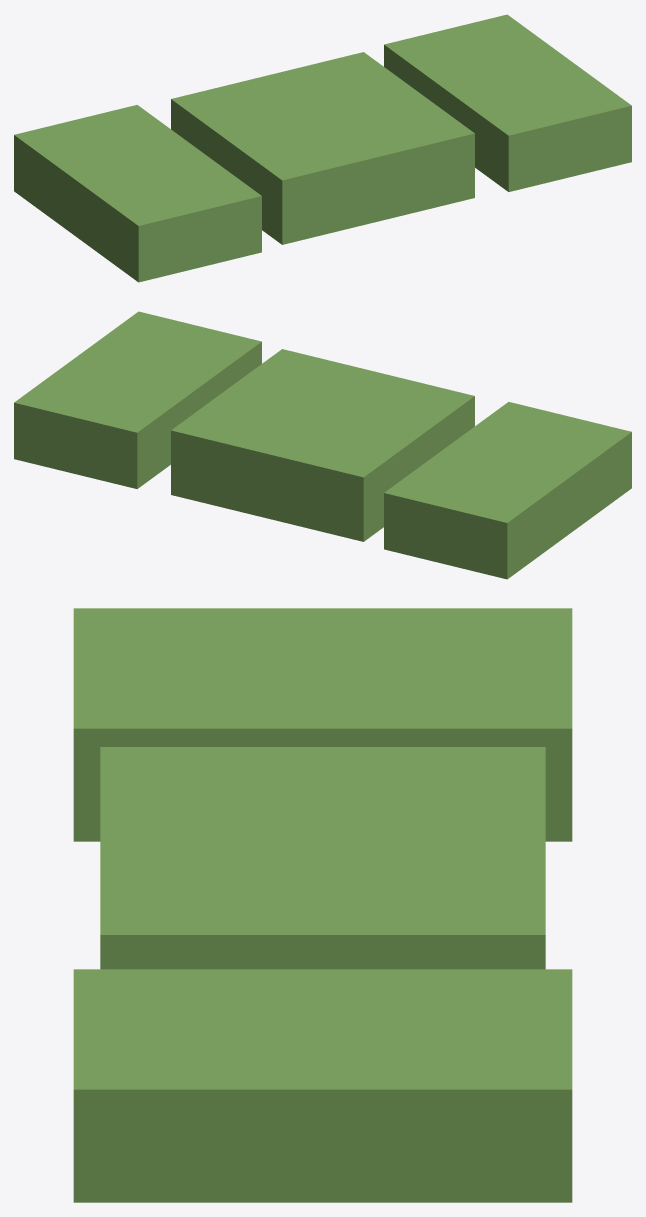
File: garden.gltf
3 renders of one model, top to bottom at view 1: azimuth 30°, elevation 25°; view 2: azimuth 150°, elevation 25°; view 3: azimuth 270°, elevation 25°, orthographic. The views are drawn at different scales.
Parts seen in each view (by area): view 1: Central Bed, West Bed, East Bed; view 2: Central Bed, West Bed, East Bed; view 3: East Bed, Central Bed, West Bed.
Boxes of the visible parts, bbox=[...] form: Central Bed: bbox=[171, 52, 474, 244]; West Bed: bbox=[14, 105, 261, 282]; East Bed: bbox=[384, 14, 631, 191]; Central Bed: bbox=[171, 349, 474, 541]; West Bed: bbox=[384, 402, 631, 579]; East Bed: bbox=[14, 311, 261, 488]; East Bed: bbox=[73, 969, 572, 1202]; Central Bed: bbox=[100, 747, 545, 969]; West Bed: bbox=[73, 608, 572, 841].
Bounding box in the file's own units: 6.4 × 0.8 × 2.8.
